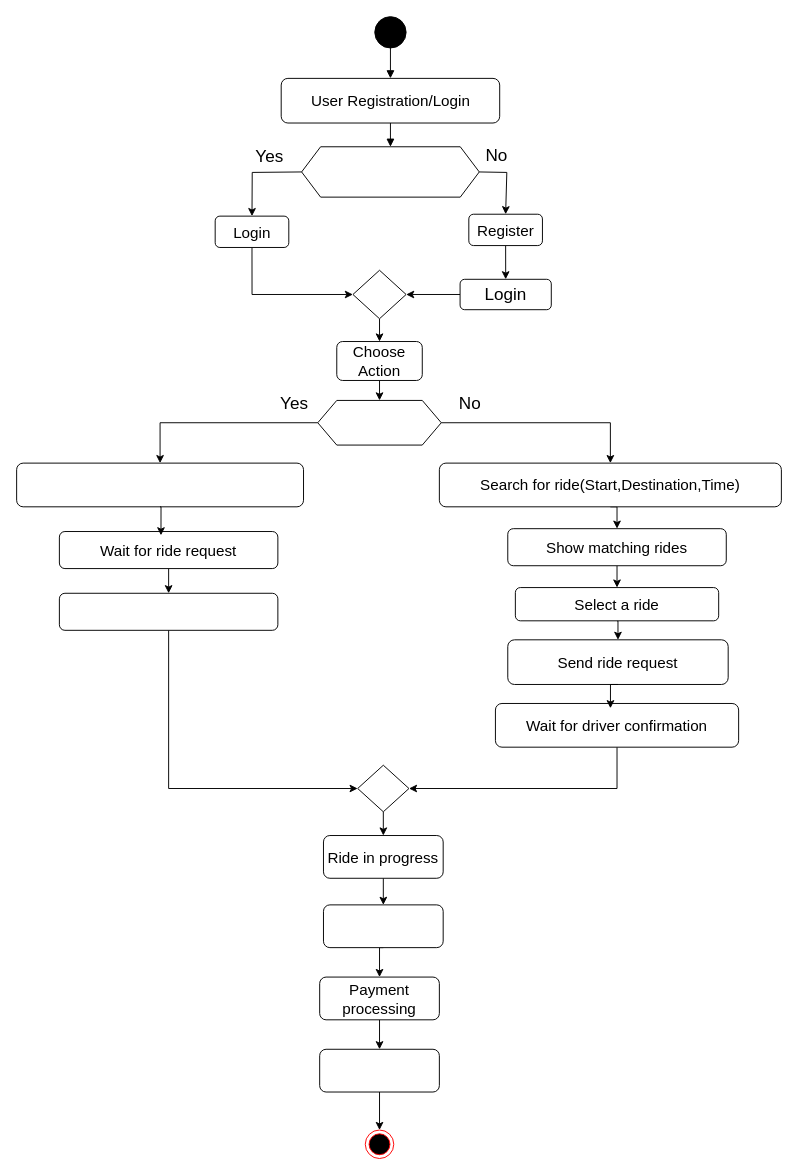
Some shapes in this 798 by 1175 pixel diagram are drawn without their labels. The shapes that lost their labels are listed below. From the top down, each one's box as (x1, y1, x2, y2) in pixels, then its label:
(301, 146, 479, 197): Has an account
(317, 399, 441, 445): Offer a ride
(16, 462, 304, 507): Provide ride details(Start,destination,time,seats)
(58, 592, 278, 630): Confirm/Reject passenger request
(323, 904, 443, 948): End ride
(319, 1048, 439, 1092): Rate a ride
